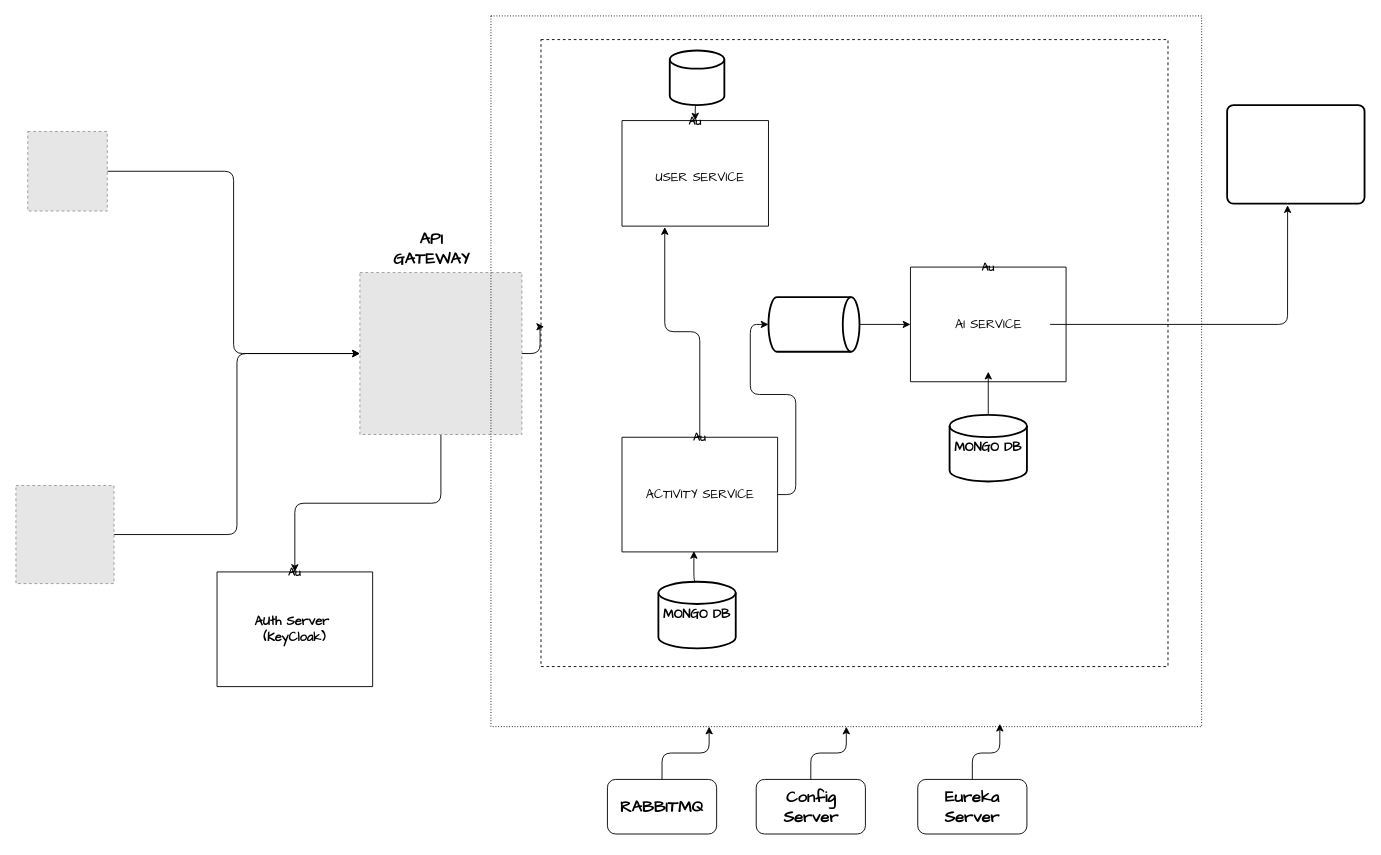
Image size: 1381x855. Some labels were removed from this diagram. Grey dashed boxes stand in for pictures. The box of each missing label's shape, as (x1, y1, x2, y2) in pixels:
Google's Gemini Server: (1226, 104, 1365, 204)
MYSQL: (668, 49, 725, 106)
Queue: (767, 296, 860, 352)
